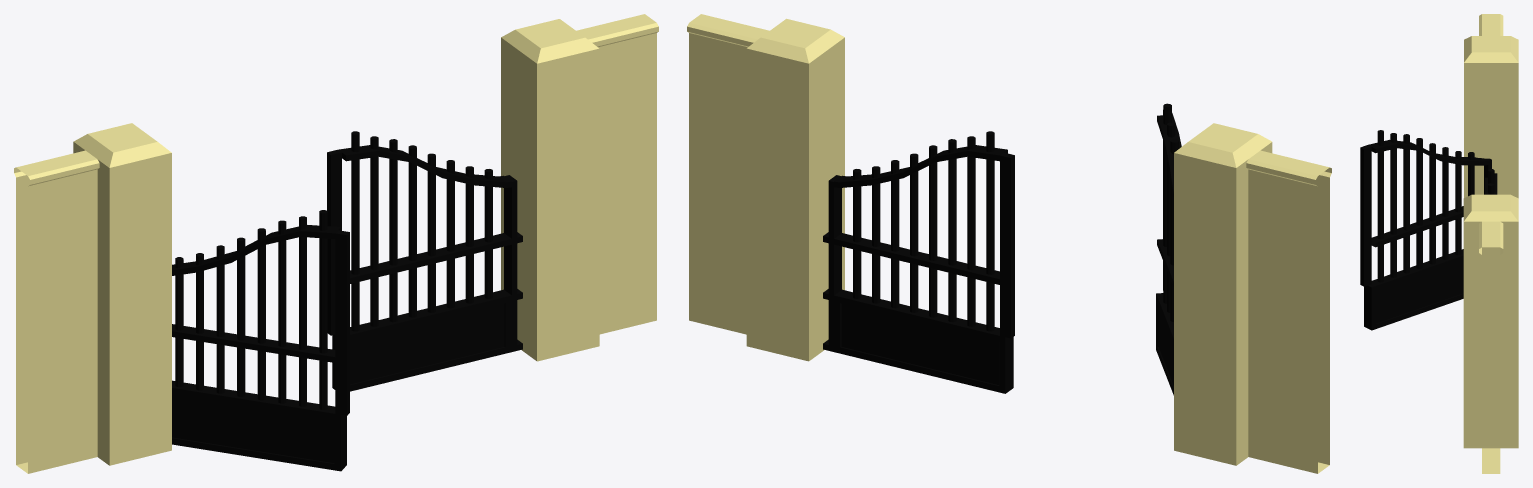
Rendered from CemeteryDoor.fbx.
3 views of the same model, side by side, from view 1: azimuth 30°, elevation 25°; view 2: azimuth 150°, elevation 25°; view 3: azimuth 270°, elevation 25° (orthographic). The views are drawn at different scales.
Visible parts, largest first — view 1: CemeteryDoor; view 2: CemeteryDoor; view 3: CemeteryDoor.
Part boxes in pixels (<box>): CemeteryDoor: <box>14,14,658,473</box>; CemeteryDoor: <box>687,14,1331,473</box>; CemeteryDoor: <box>1360,14,1518,473</box>.
Size of the model in its own units: 906 by 423 by 260.
